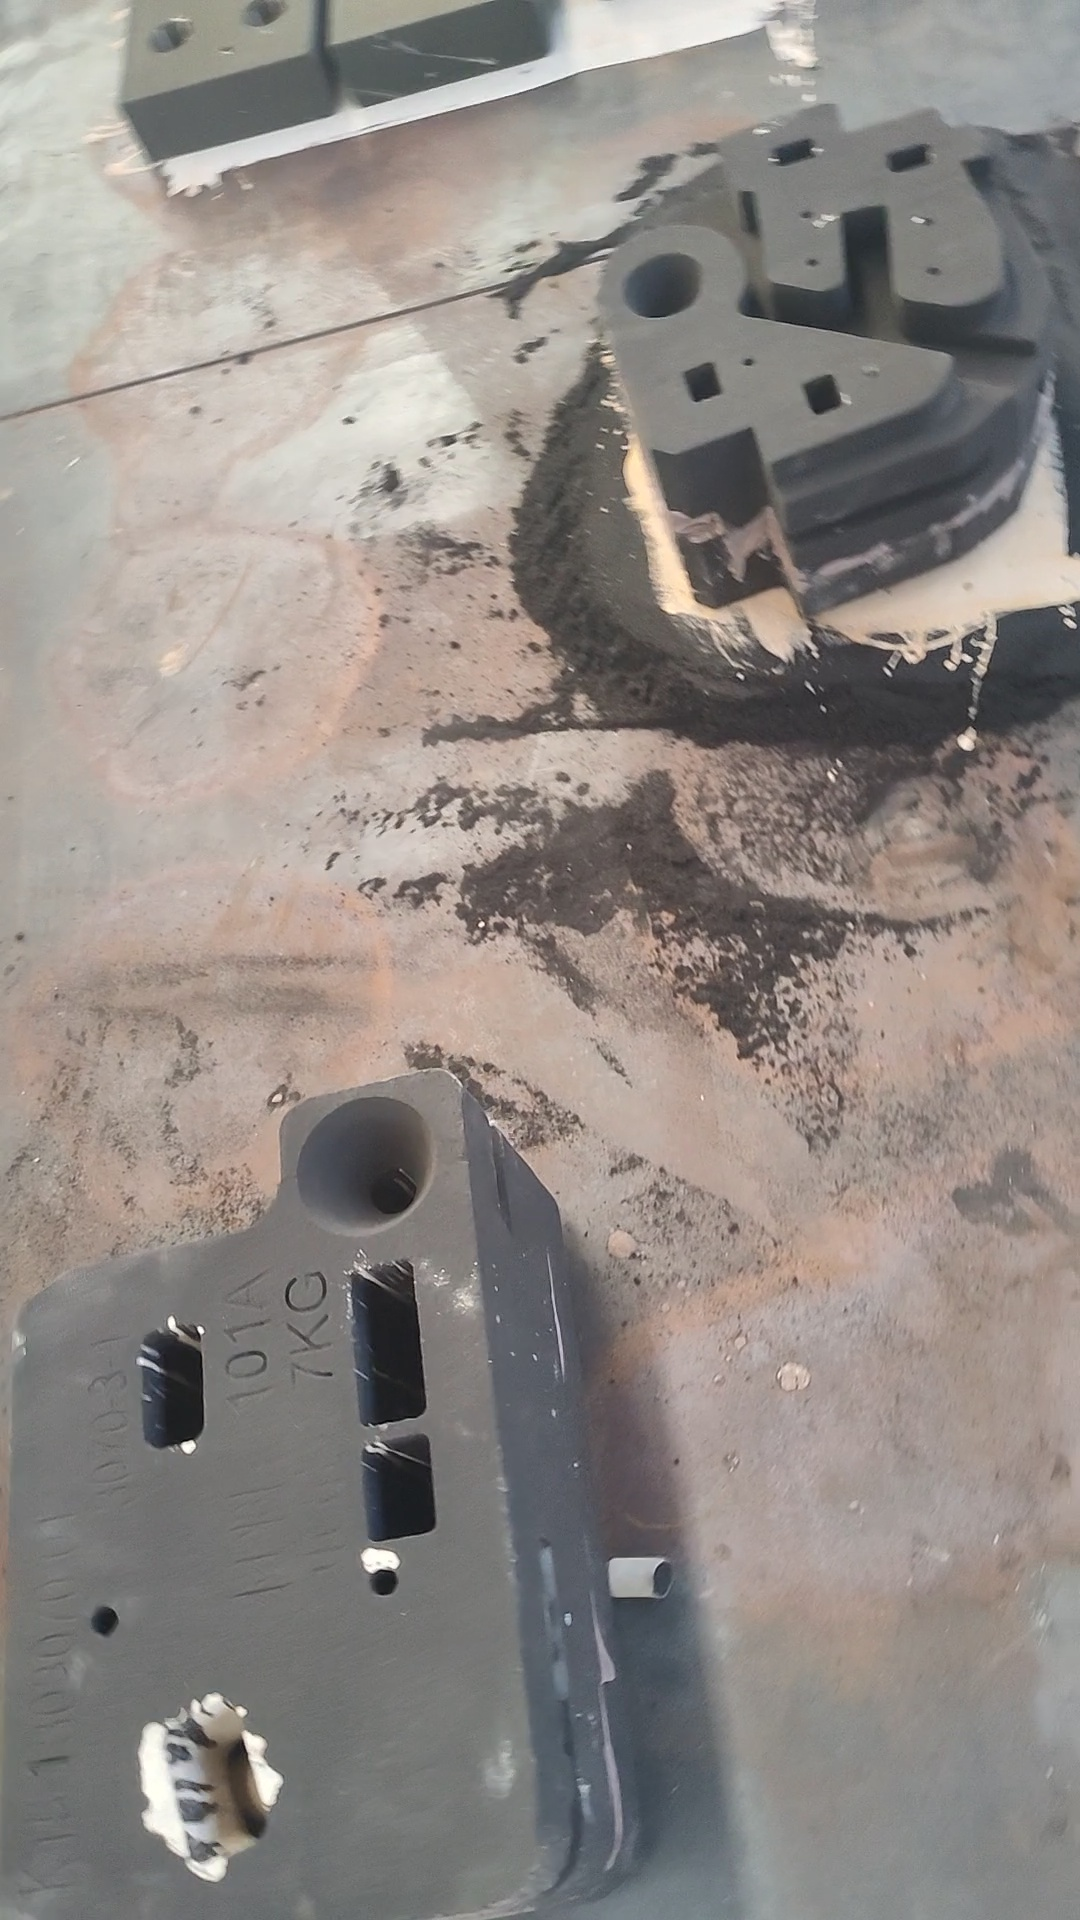pouring hole: (295, 1096, 434, 1234), (621, 252, 702, 318), (145, 17, 194, 54), (240, 1, 289, 26)
